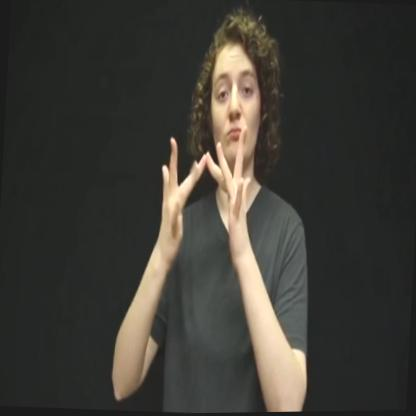Internet: (150, 113, 266, 284)
